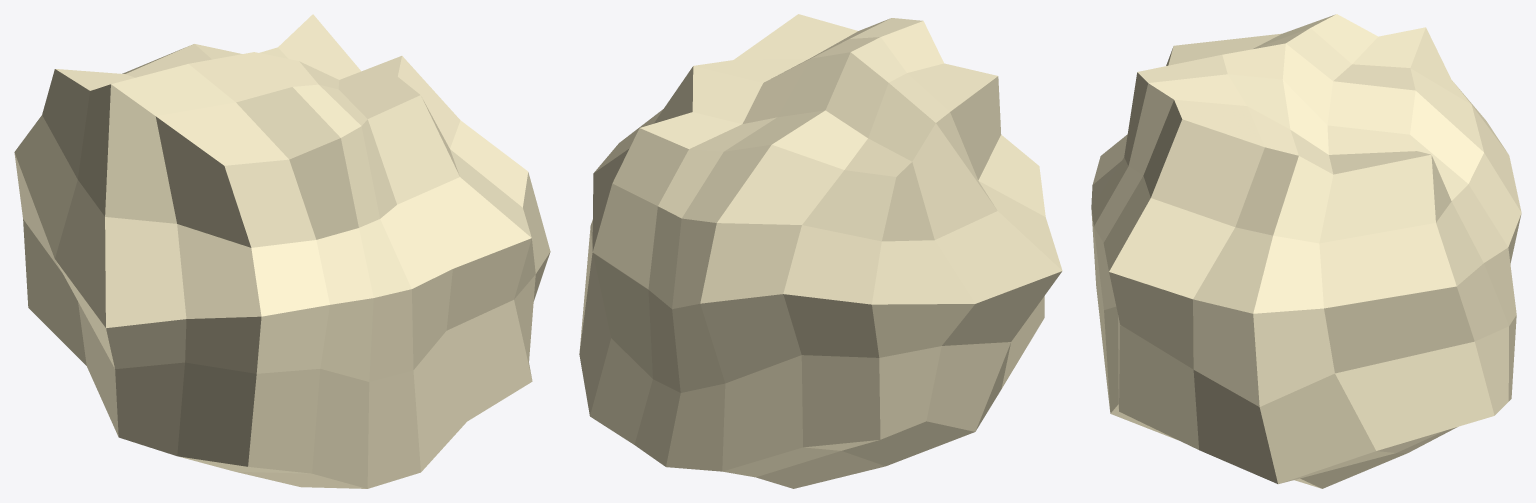
Rendered from PaperBall.fbx.
3 views of the same model, side by side, from view 1: azimuth 30°, elevation 25°; view 2: azimuth 150°, elevation 25°; view 3: azimuth 270°, elevation 25° (orthographic). The views are drawn at different scales.
Visible parts, largest first — view 1: Cube.012; view 2: Cube.012; view 3: Cube.012.
Boxes of the visible parts, x1=… form: Cube.012: x1=14, y1=14, x2=550, y2=488; Cube.012: x1=579, y1=14, x2=1062, y2=488; Cube.012: x1=1091, y1=14, x2=1521, y2=488.
Bounding box in the file's own units: 40.77 × 36.68 × 35.52.
